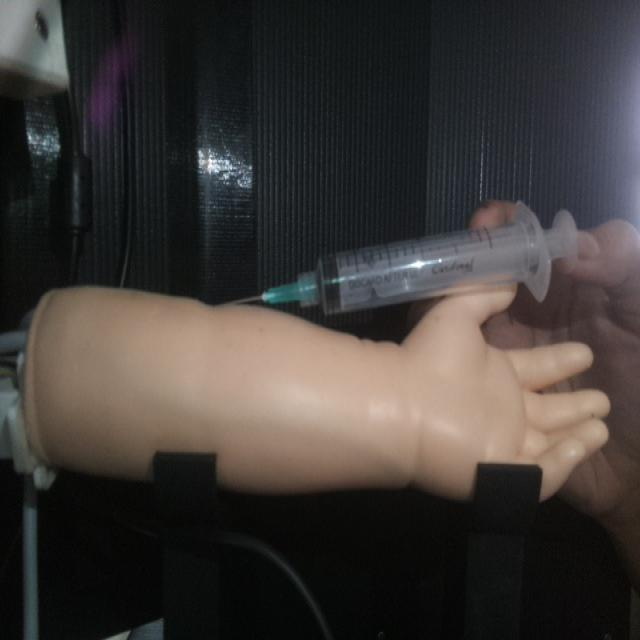Below 15 degrees: (231, 198, 581, 318)
